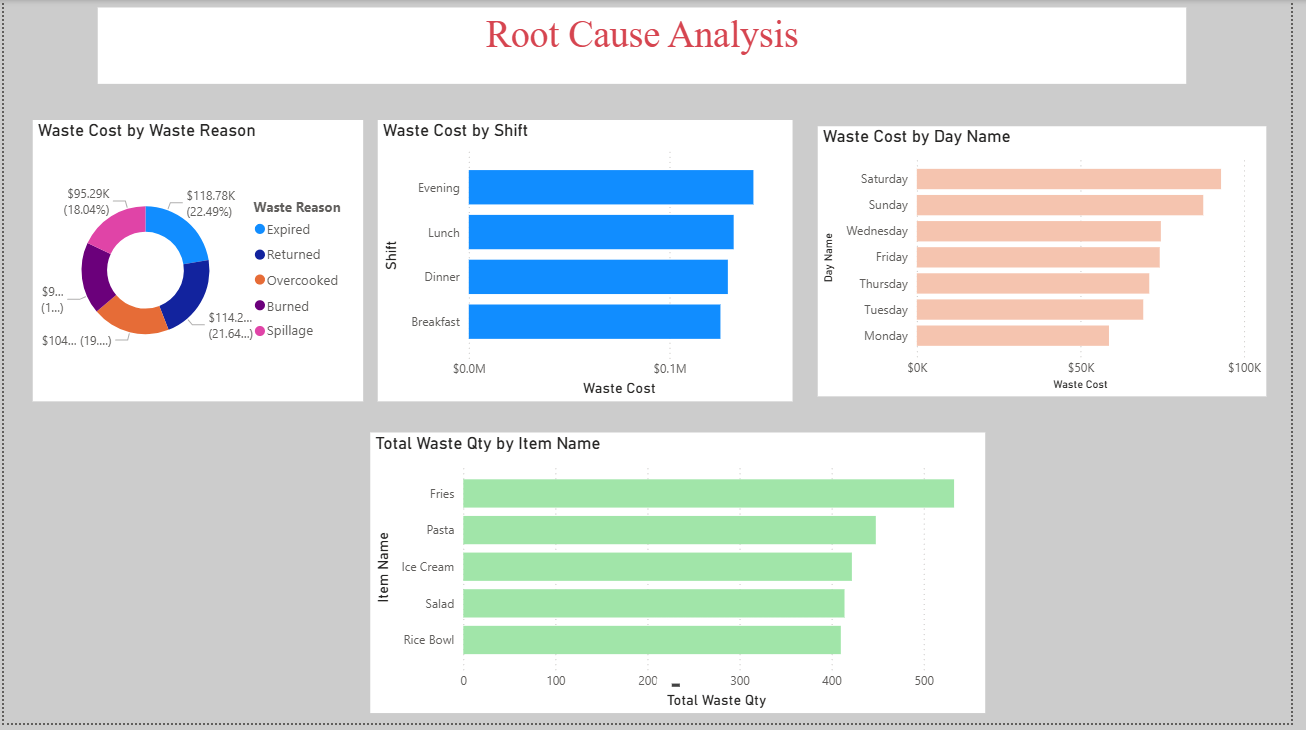

This screenshot's page, from the dashboard's own definition file:
{"tool":"powerbi","page":{"name":"Page 2","canvas":[1280,720],"ordinal":1},"visuals":[{"type":"donutChart","fields":{"Category":["WasteData.Waste Reason"],"Y":["Measure Table.Waste Cost"]},"box":[28.2,119.6,328.8,280.1],"z":0},{"type":"clusteredBarChart","fields":{"Category":["WasteData.Shift"],"Y":["Measure Table.Waste Cost"]},"box":[371.6,119.6,412.4,280.1],"z":1},{"type":"clusteredBarChart","fields":{"Y":["Measure Table.Waste Cost"],"Category":["WasteData.Day Name"]},"box":[810.2,125.5,446.4,268.4],"z":2},{"type":"clusteredBarChart","fields":{"Y":["Measure Table.Total Waste Qty"],"Category":["ItemMaster.Item Name"]},"box":[364.7,429.9,611.8,279.1],"z":3},{"type":"textbox","box":[649.7,676,28.2,12.6],"z":4},{"type":"textbox","box":[93.4,7.8,1083.5,75.9],"z":5}]}

Visuals, with their boxes in screenshot pixels (x1, y1, x2, y2), scaled from the page's 1280x720 canvas onto the 1306x730 screenshot:
donutChart - WasteData.Waste Reason x Measure Table.Waste Cost: Rect(29, 121, 364, 405)
clusteredBarChart - WasteData.Shift x Measure Table.Waste Cost: Rect(379, 121, 800, 405)
clusteredBarChart - Measure Table.Waste Cost x WasteData.Day Name: Rect(827, 127, 1282, 399)
clusteredBarChart - Measure Table.Total Waste Qty x ItemMaster.Item Name: Rect(372, 436, 996, 719)
textbox: Rect(663, 685, 692, 698)
textbox: Rect(95, 8, 1201, 85)
